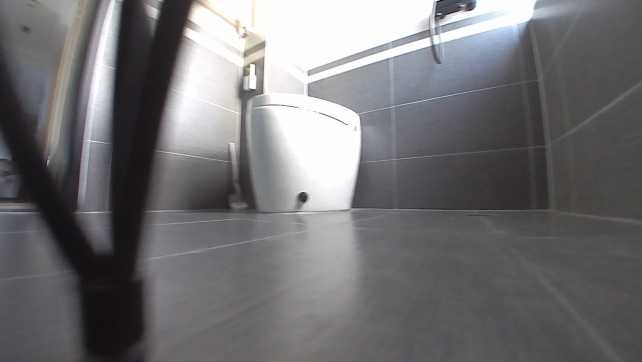toilet: (245, 90, 365, 212)
